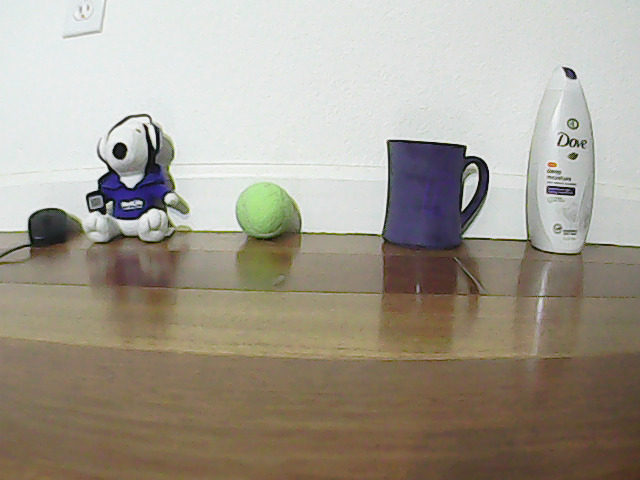ball: (235, 178, 301, 239)
mouse: (21, 200, 74, 249)
mug: (378, 128, 489, 260)
snoopy: (84, 118, 193, 247)
soap: (519, 65, 600, 264)
